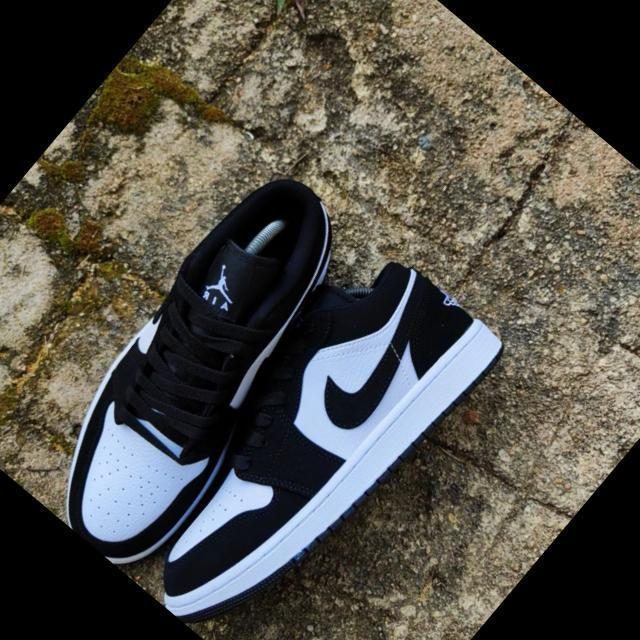nike fake jordan 1: (89, 221, 511, 640), (0, 148, 398, 575)
